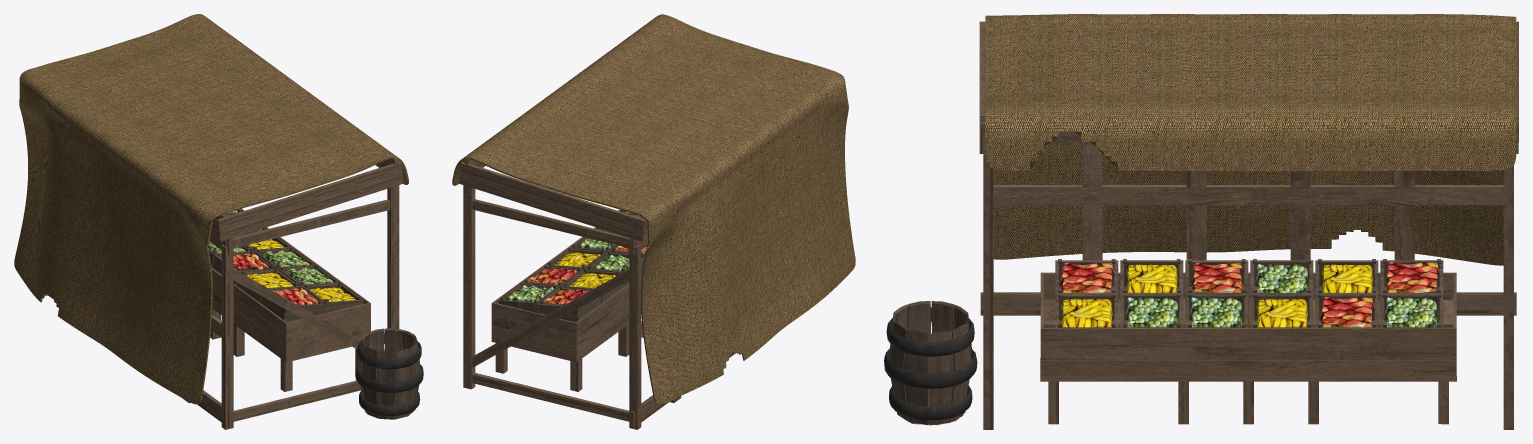
File: medieval_market_stall.glb
3 views of the same model, side by side, from view 1: azimuth 30°, elevation 25°; view 2: azimuth 150°, elevation 25°; view 3: azimuth 270°, elevation 25° (orthographic). The views are drawn at different scales.
Visible parts, largest first — view 1: Stall, Food, Barrel_2; view 2: Stall, Food; view 3: Stall, Food, Barrel_2.
Part boxes in pixels (<box>): Stall: <box>14,14,408,429</box>; Food: <box>208,208,370,391</box>; Barrel_2: <box>355,328,423,419</box>; Stall: <box>452,14,855,429</box>; Food: <box>491,209,648,391</box>; Stall: <box>979,14,1518,429</box>; Food: <box>1040,259,1456,424</box>; Barrel_2: <box>884,301,977,425</box>.
Size of the model in its own units: 2.73 by 2.68 by 4.88.
Materials: 7 (7 with a texture image).
